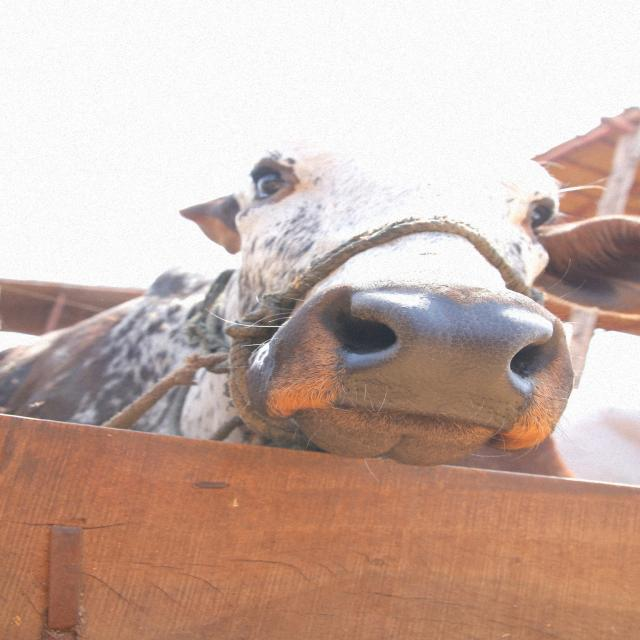muzzles: (325, 280, 568, 437)
